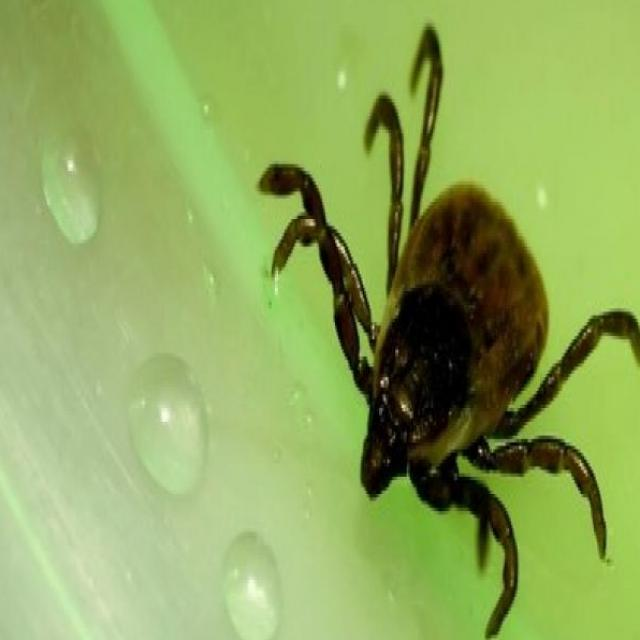Rhipicephalus Sanguineus-F: (255, 23, 640, 640)
